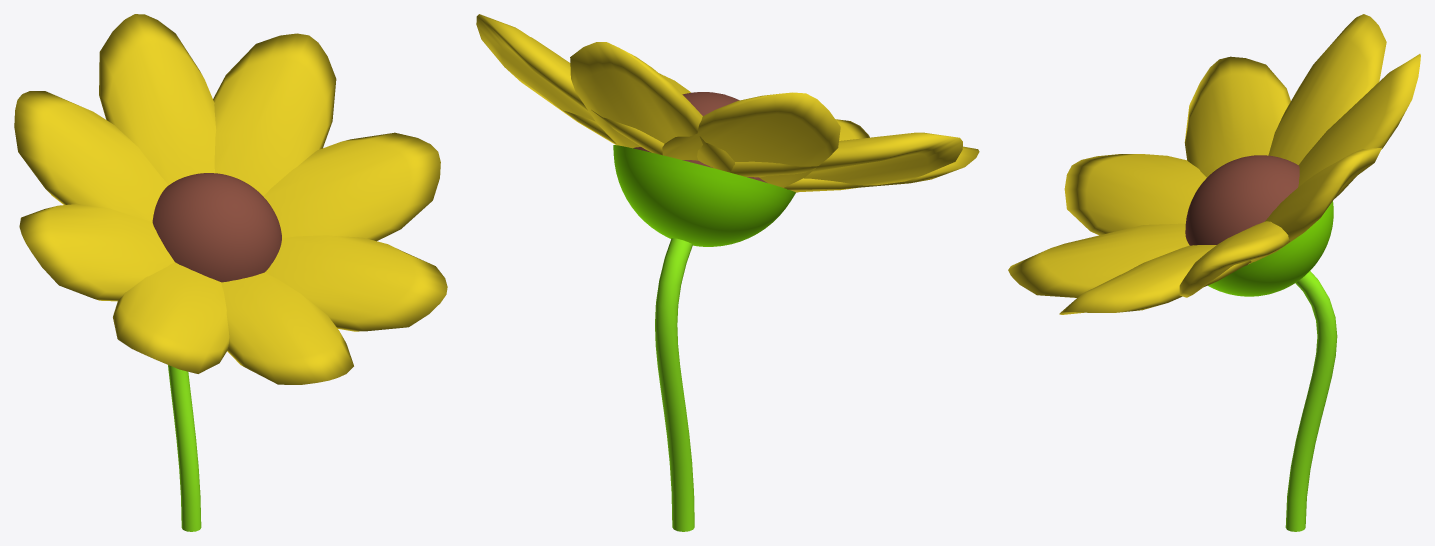
The model's file is Flower_2.fbx.
3 views of the same model, side by side, from view 1: azimuth 30°, elevation 25°; view 2: azimuth 150°, elevation 25°; view 3: azimuth 270°, elevation 25° (orthographic). The views are drawn at different scales.
Parts seen in each view (by area): view 1: ベジエカーブ; view 2: ベジエカーブ; view 3: ベジエカーブ.
Part boxes in pixels (x1,y1,x2,y2): ベジエカーブ: (14,14,447,531); ベジエカーブ: (476,14,979,531); ベジエカーブ: (1008,14,1420,531).
Size of the model in its own units: 446 by 488 by 385.
